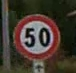limite 50: (12, 12, 62, 60)
